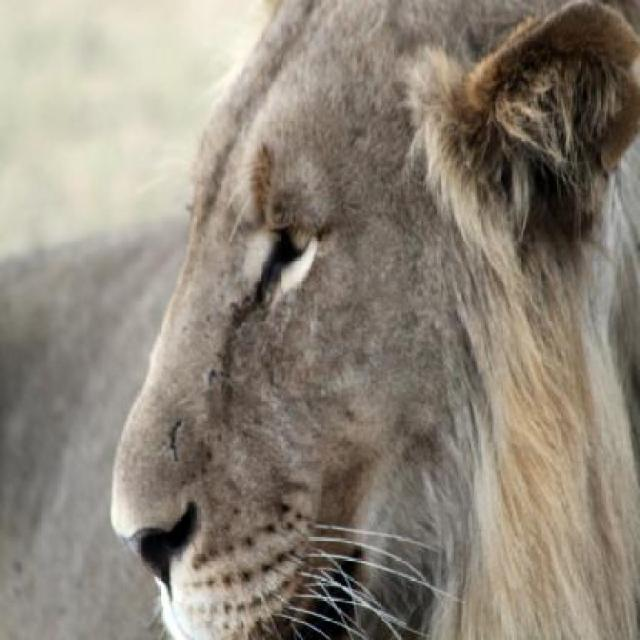Lion: (80, 9, 637, 638)
